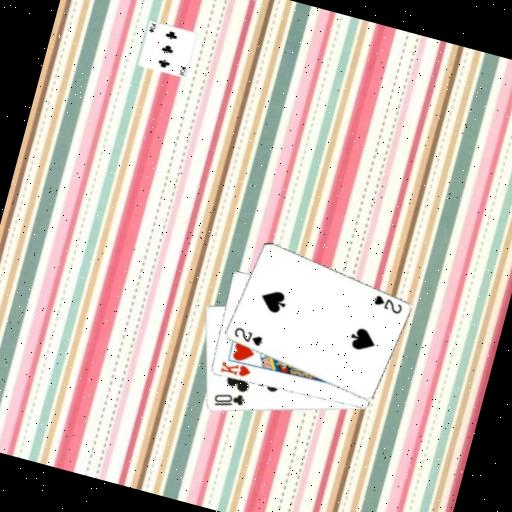10C: (208, 385, 247, 415)
2S: (228, 322, 266, 349), (368, 290, 406, 316)
KH: (216, 356, 253, 381)
